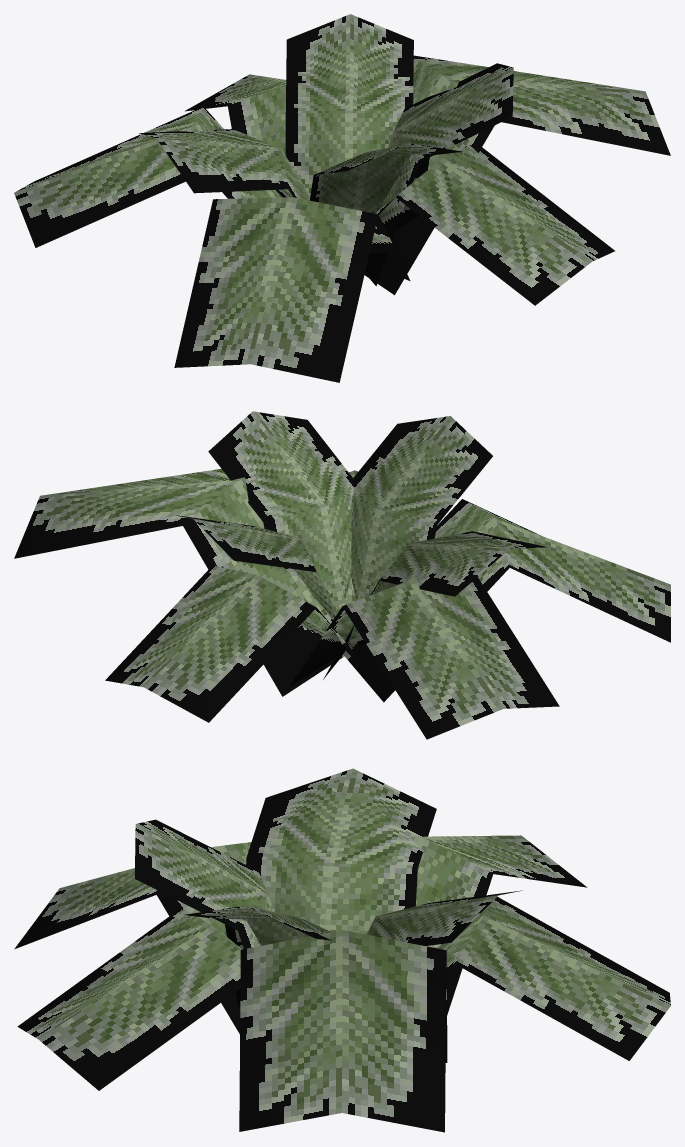
File: sbushtro_1.dae
3 renders of one model, top to bottom at view 1: azimuth 30°, elevation 25°; view 2: azimuth 150°, elevation 25°; view 3: azimuth 270°, elevation 25°, orthographic. The views are drawn at different scales.
Visible parts, largest first — view 1: sbushtro_1; view 2: sbushtro_1; view 3: sbushtro_1.
Boxes of the visible parts, x1,y1,x2,y2 form: sbushtro_1: (14, 14, 670, 382); sbushtro_1: (14, 411, 670, 739); sbushtro_1: (14, 768, 670, 1132).
Bounding box in the file's own units: 3.86 × 3.4 × 1.29.
Materials: 1 (1 with a texture image).
